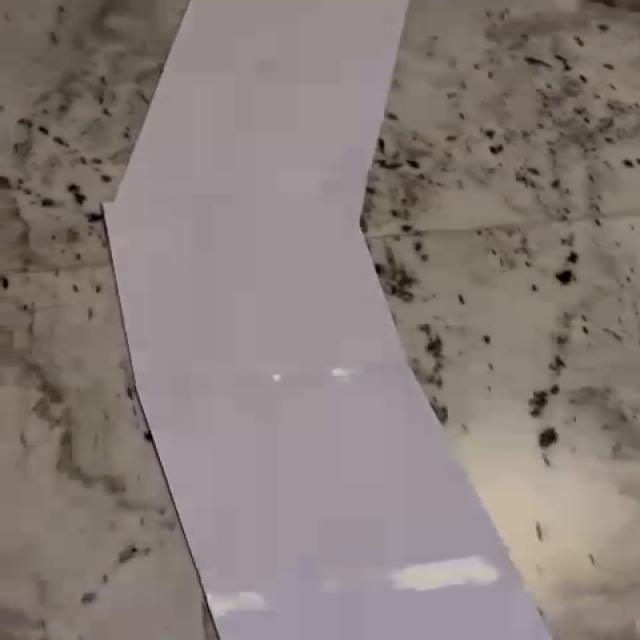road: (103, 0, 555, 640)
